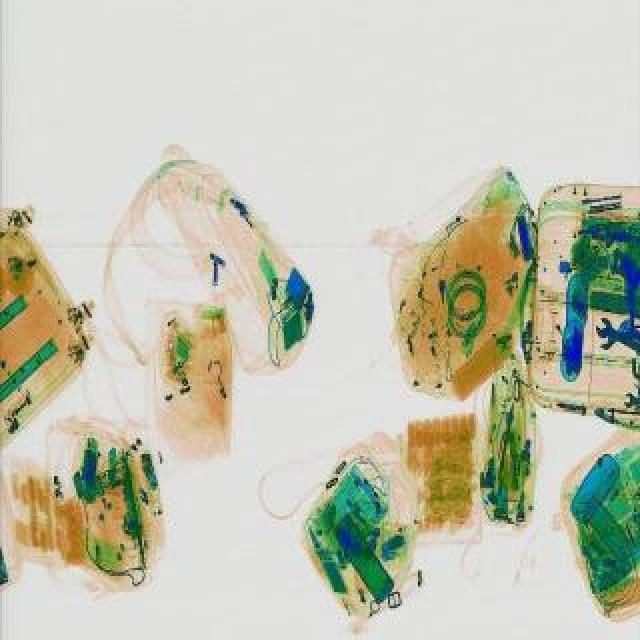scissors: (592, 314, 640, 352), (598, 326, 638, 346)
